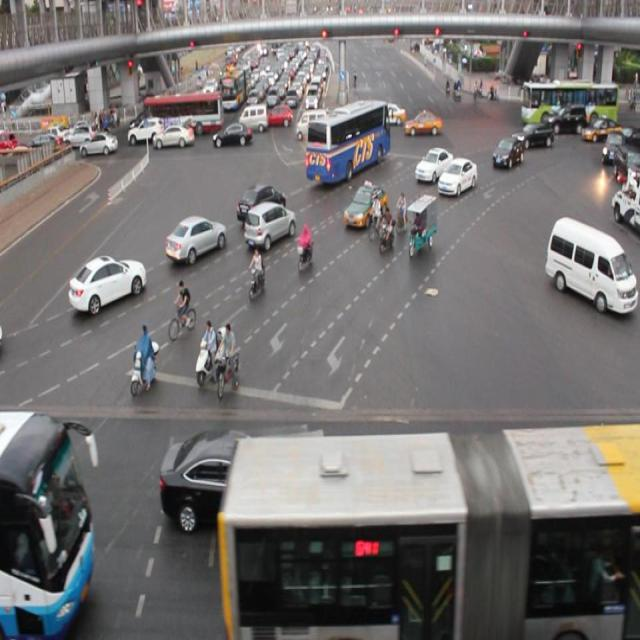car: (162, 431, 276, 531), (68, 252, 146, 316), (166, 212, 229, 262), (246, 203, 296, 247), (344, 182, 386, 228), (236, 182, 288, 215), (438, 158, 475, 196), (414, 148, 451, 183), (492, 134, 521, 169), (154, 122, 193, 148), (515, 121, 552, 148)
truck: (544, 217, 640, 318)
van: (218, 418, 640, 639), (1, 409, 97, 640), (308, 95, 390, 182)
